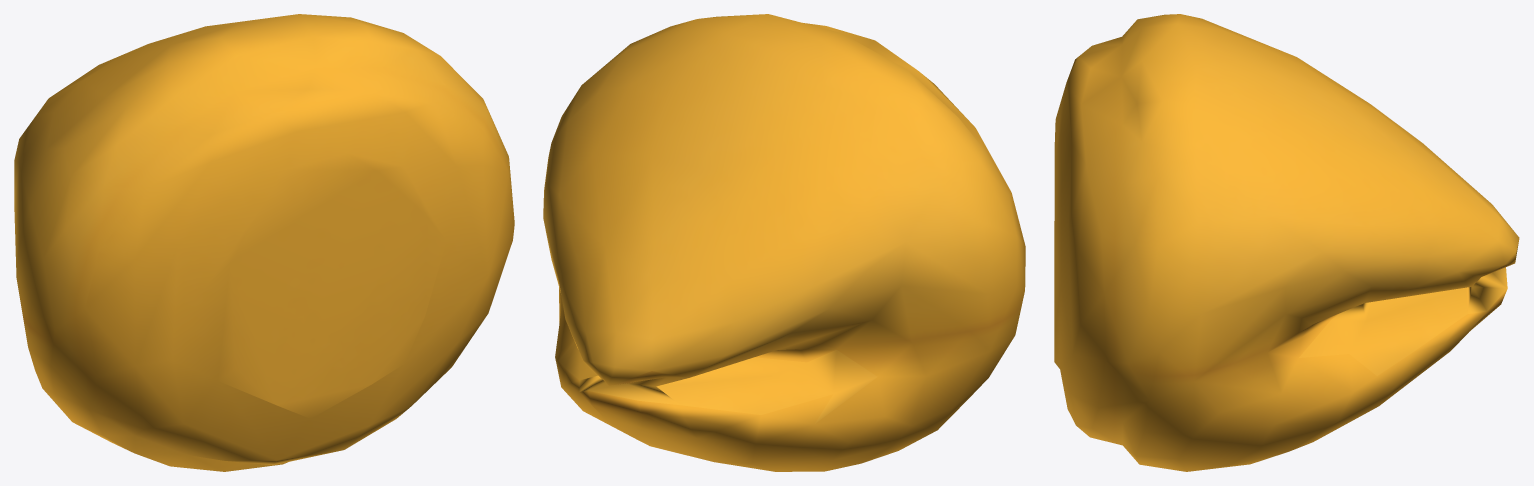
Rendered from studio.glb.
3 renders of one model, left to right at view 1: azimuth 30°, elevation 25°; view 2: azimuth 150°, elevation 25°; view 3: azimuth 270°, elevation 25°, orthographic. The views are drawn at different scales.
Size of the model in its own units: 1.15 by 0.9992 by 1.05.
Materials: 1 (1 with a texture image).
